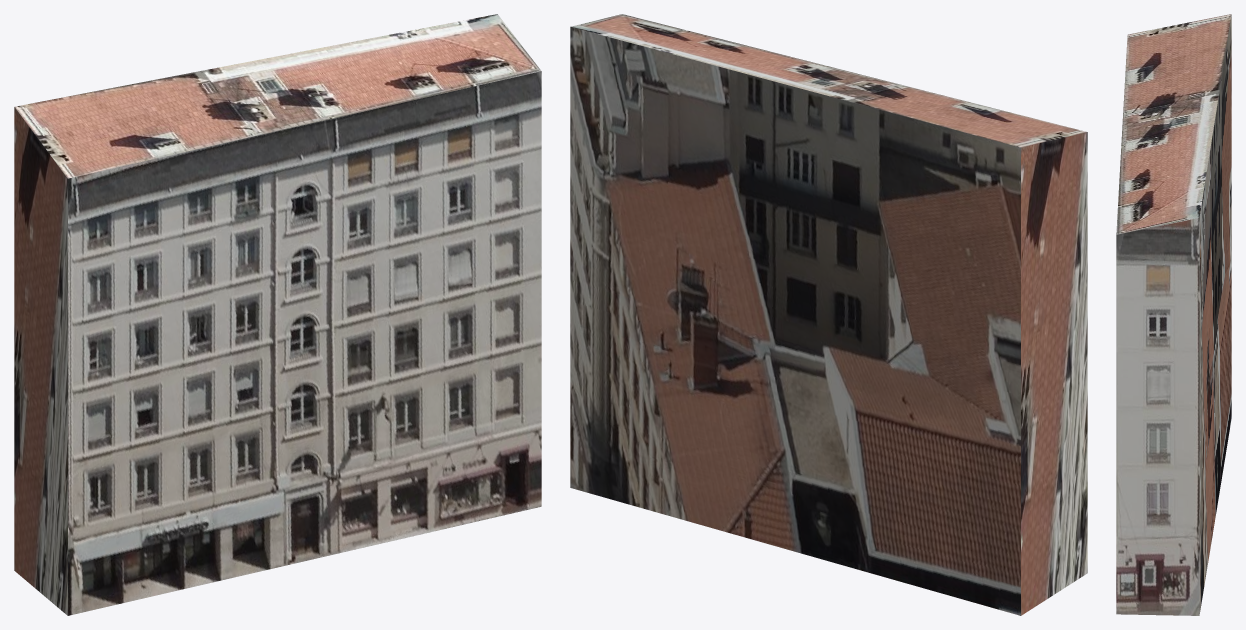
3 views of the same model, side by side, from view 1: azimuth 30°, elevation 25°; view 2: azimuth 150°, elevation 25°; view 3: azimuth 270°, elevation 25° (orthographic). The views are drawn at different scales.
Visible parts, largest first — view 1: Z_UP; view 2: Z_UP; view 3: Z_UP.
Part boxes in pixels (x1,y1,x2,y2): Z_UP: [14, 14, 541, 615]; Z_UP: [570, 14, 1087, 615]; Z_UP: [1116, 14, 1231, 615].
Bounding box in the file's own units: 24.53 × 23.09 × 5.97.
2 materials, 1 textured.
